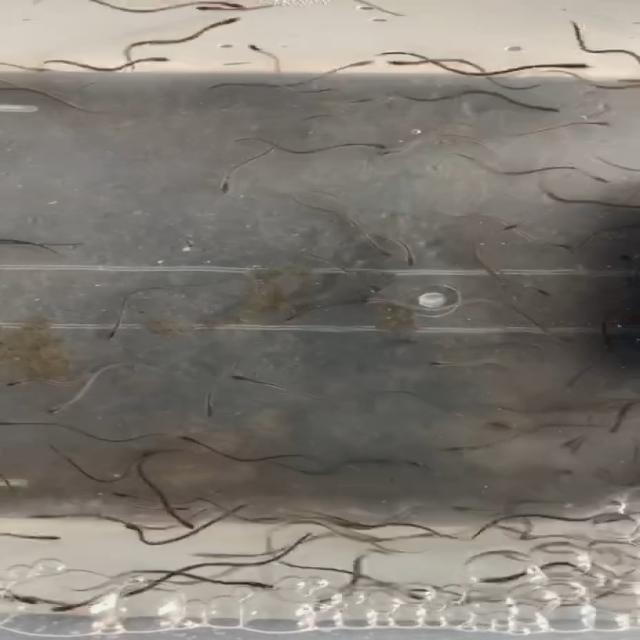active_glass_eel: (436, 436, 494, 456), (42, 599, 96, 617), (384, 54, 432, 74), (538, 56, 594, 72), (186, 543, 230, 561), (102, 319, 132, 344), (444, 499, 482, 518), (240, 578, 290, 592), (490, 218, 528, 236), (44, 398, 80, 417), (576, 114, 616, 131), (223, 371, 270, 385), (372, 141, 413, 157), (210, 175, 237, 199), (24, 529, 62, 546), (530, 101, 570, 117), (576, 166, 608, 186), (210, 14, 244, 32), (8, 592, 44, 608), (369, 240, 395, 262), (0, 374, 40, 388), (345, 293, 391, 305), (173, 430, 207, 446), (401, 252, 428, 270), (353, 137, 390, 150), (22, 61, 54, 76), (200, 395, 220, 419), (154, 502, 194, 514), (344, 57, 380, 70), (240, 40, 268, 56), (550, 240, 582, 254), (168, 514, 196, 530), (134, 55, 178, 65), (212, 0, 248, 12), (125, 520, 148, 538), (109, 488, 145, 498), (535, 282, 555, 298), (193, 4, 230, 12), (428, 364, 461, 369)
